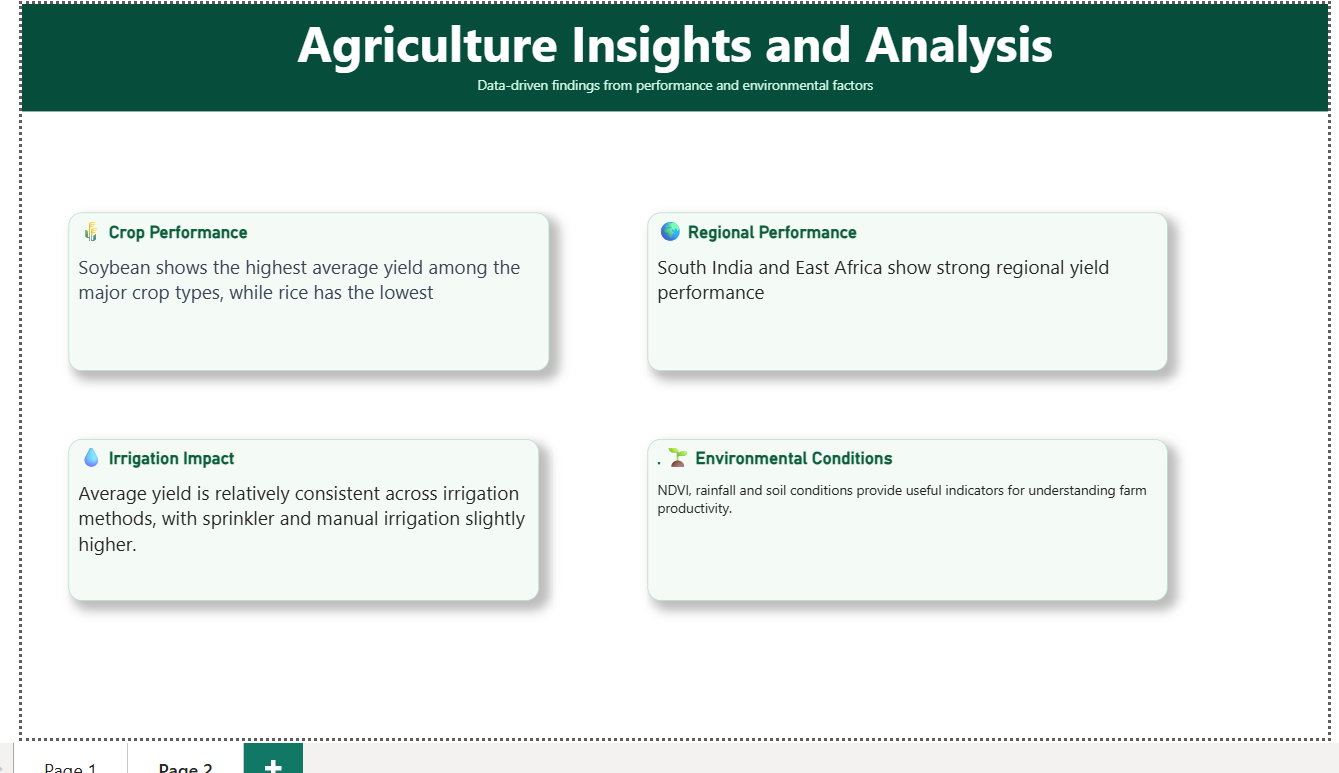

The page's visual inventory and layout, read from the dashboard file:
{"tool":"powerbi","page":{"name":"Page 2","canvas":[1280,720],"ordinal":1},"visuals":[{"type":"textbox","box":[0,0,1280.8,105.2],"z":0},{"type":"textbox","title":"🌾 Crop Performance","box":[45.3,204,471.2,155.4],"z":1000},{"type":"textbox","title":"💧 Irrigation Impact","box":[45.3,425.9,461.5,158.7],"z":2000},{"type":"textbox","title":"🌍 Regional Performance","box":[613.7,204,510.1,155.4],"z":3000},{"type":"textbox","title":".  🌱 Environmental Conditions","box":[613.7,425.9,510.1,158.7],"z":4000}]}

Visuals, with their boxes on the page's 1280x720 design canvas (x1, y1, x2, y2). These are canvas units, not pixel positions in the 1339x773 screenshot, which may show the page scaled, cropped or inside an application window:
textbox: pyautogui.locateOnScreen(0, 0, 1281, 105)
"🌾 Crop Performance" textbox: pyautogui.locateOnScreen(45, 204, 516, 359)
"💧 Irrigation Impact" textbox: pyautogui.locateOnScreen(45, 426, 507, 585)
"🌍 Regional Performance" textbox: pyautogui.locateOnScreen(614, 204, 1124, 359)
".  🌱 Environmental Conditions" textbox: pyautogui.locateOnScreen(614, 426, 1124, 585)
